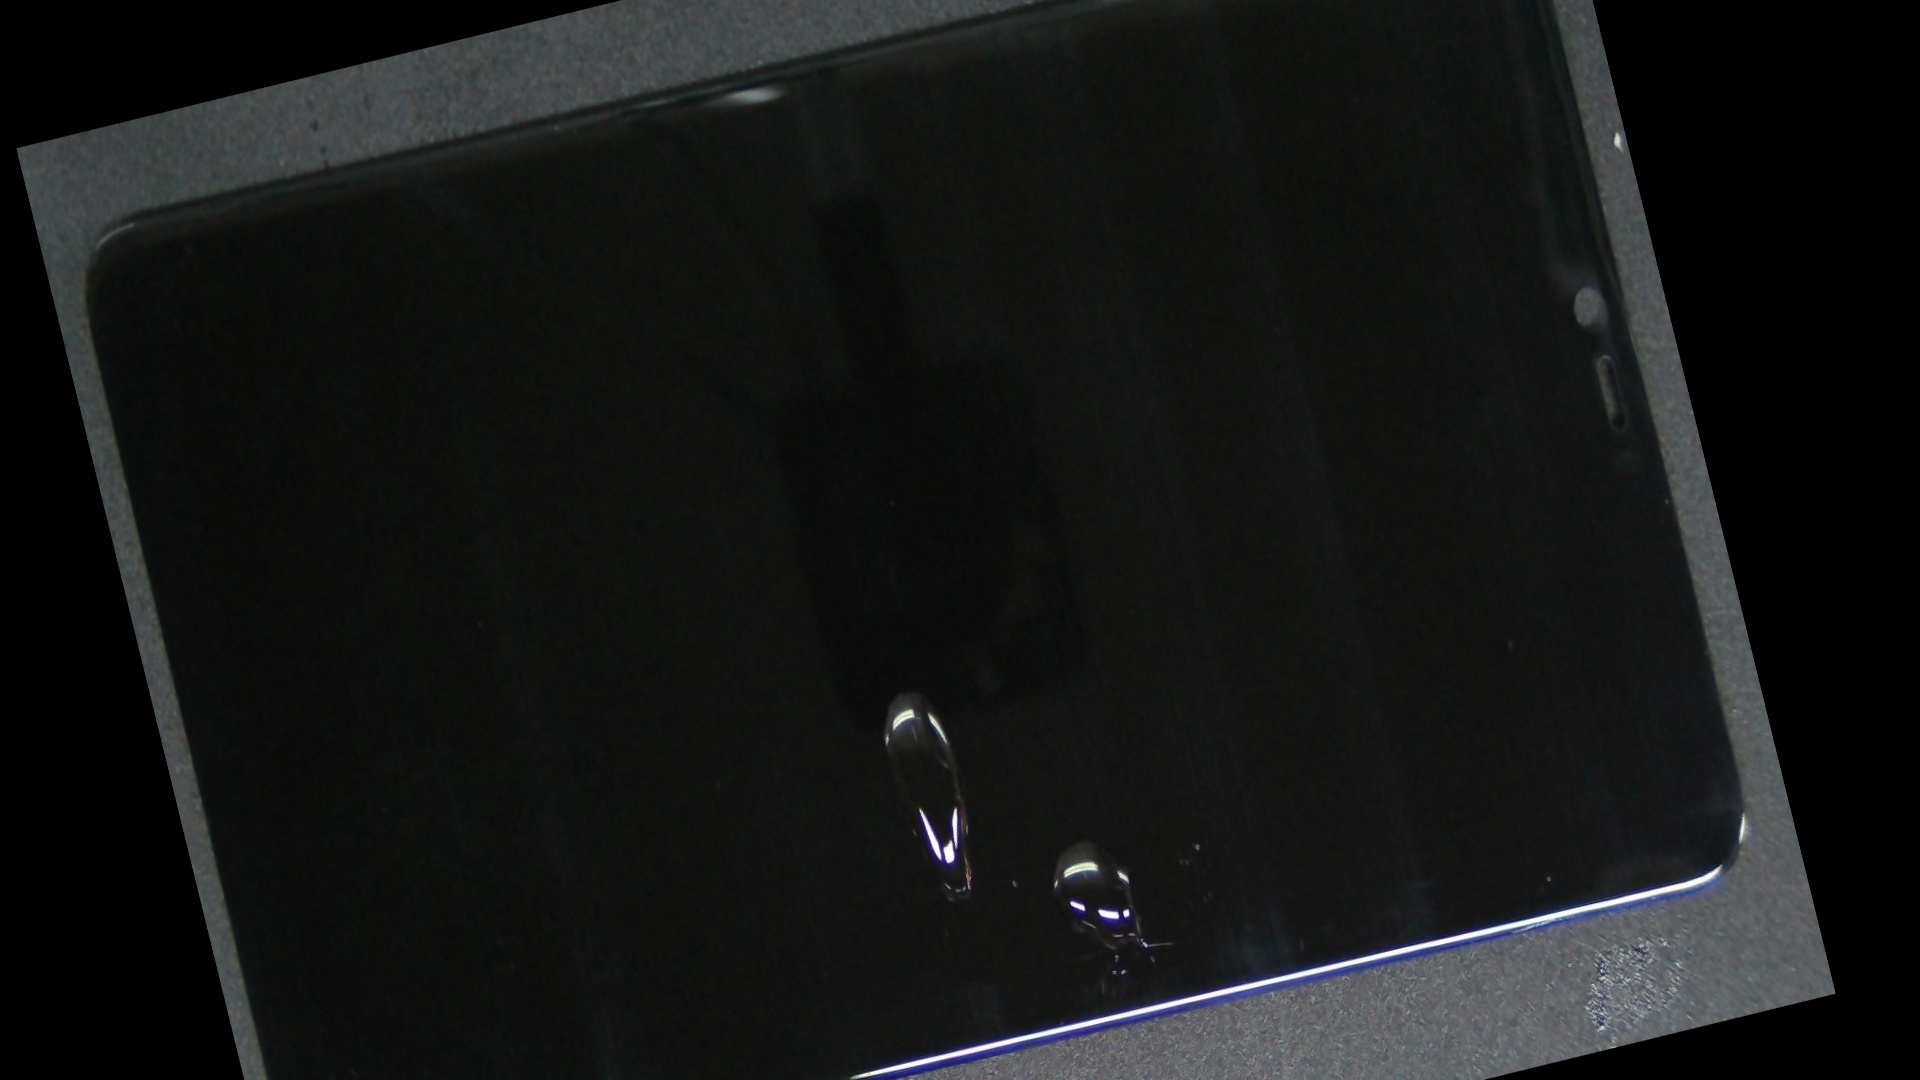oil: (546, 291, 1569, 1080), (458, 248, 1337, 1080)
